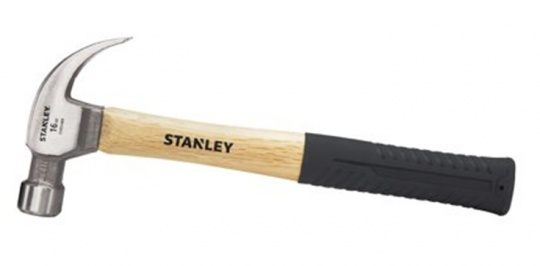hammer: (13, 33, 518, 221)
